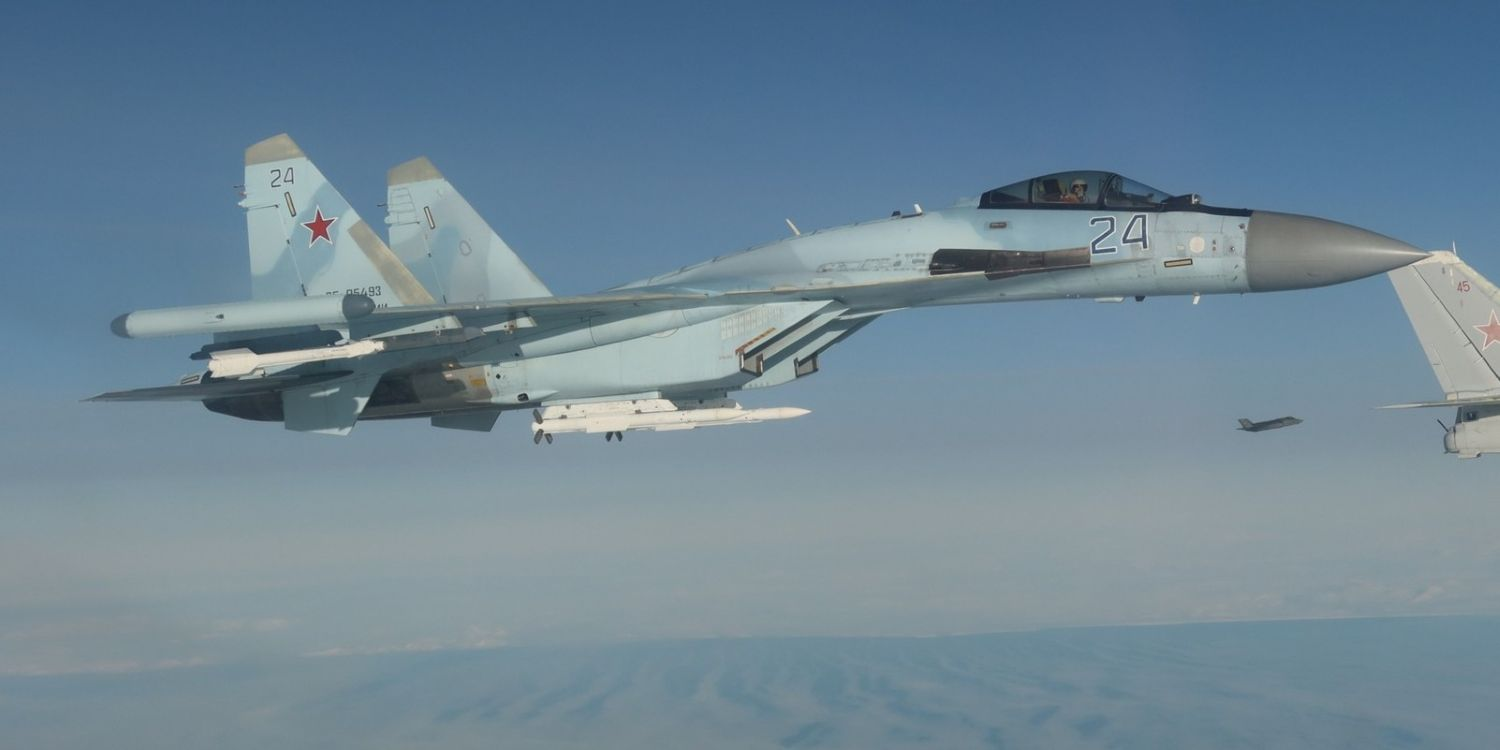Su35: (70, 119, 1447, 453)
